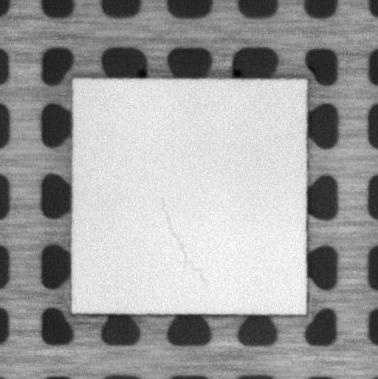DIE_CRACK: (157, 198, 208, 284)
